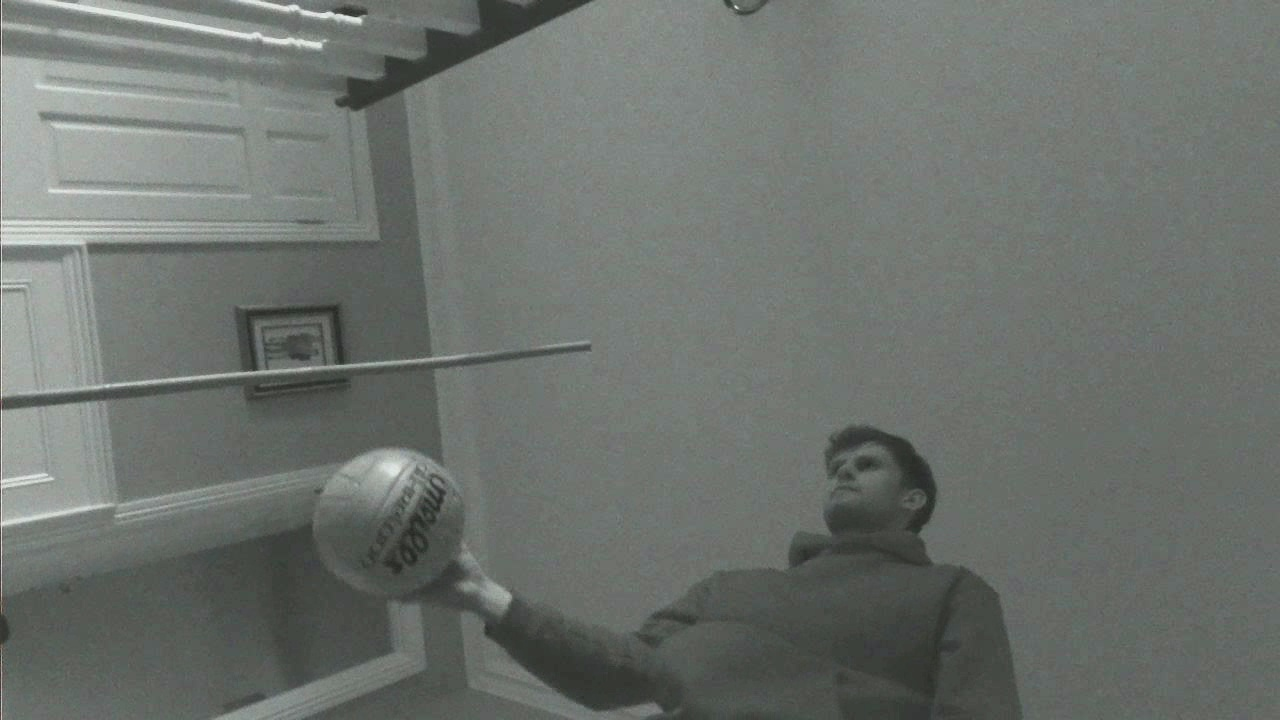Football-Spotter: (314, 448, 464, 597)
